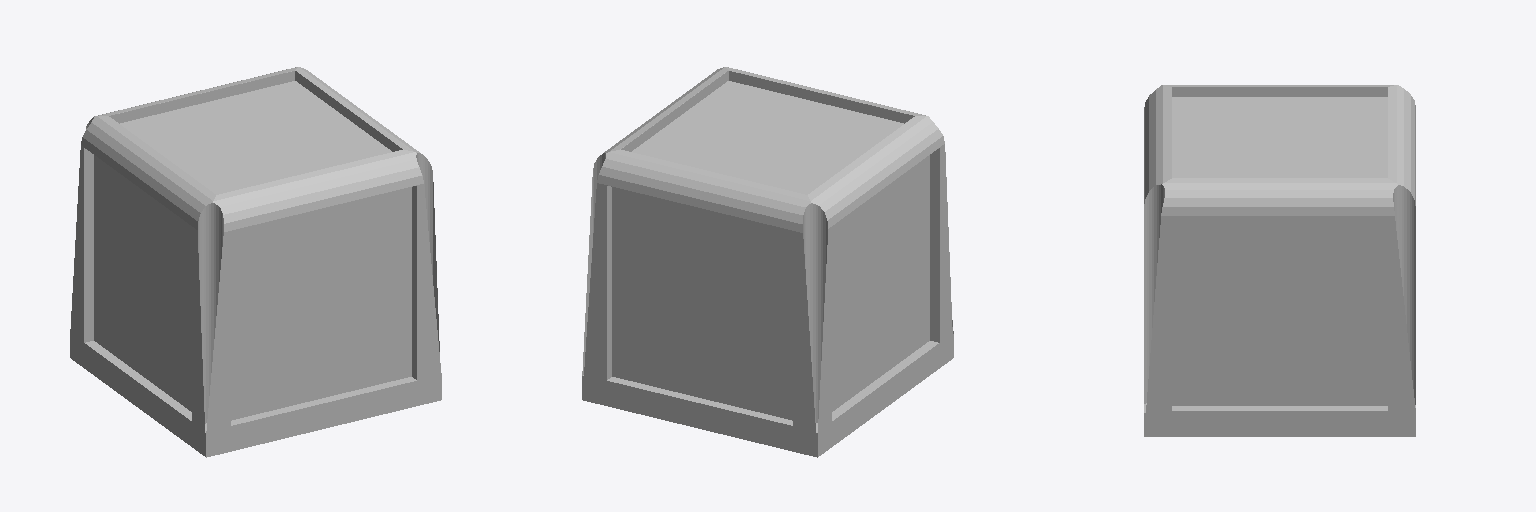
Rendered from Rulecube.obj.
3 views of the same model, side by side, from view 1: azimuth 30°, elevation 25°; view 2: azimuth 150°, elevation 25°; view 3: azimuth 270°, elevation 25° (orthographic).
Visible parts, largest first — view 1: Cube_Cube.002; view 2: Cube_Cube.002; view 3: Cube_Cube.002.
Boxes of the visible parts, x1=… form: Cube_Cube.002: x1=70, y1=67, x2=441, y2=457; Cube_Cube.002: x1=582, y1=67, x2=953, y2=457; Cube_Cube.002: x1=1144, y1=85, x2=1415, y2=436.
Size of the model in its own units: 2 by 2 by 2.